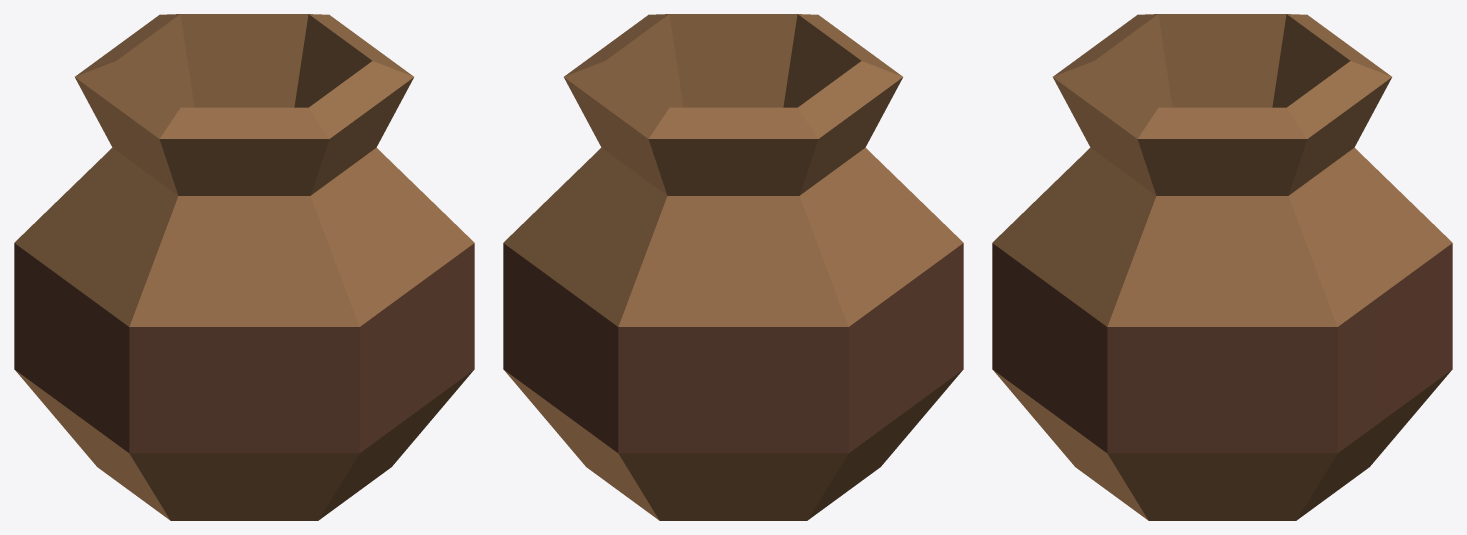
File: Pot_Small.fbx
3 views of the same model, side by side, from view 1: azimuth 30°, elevation 25°; view 2: azimuth 150°, elevation 25°; view 3: azimuth 270°, elevation 25° (orthographic).
Visible parts, largest first — view 1: Pot_Small; view 2: Pot_Small; view 3: Pot_Small.
Part boxes in pixels (x1,y1,x2,y2): Pot_Small: [14, 14, 474, 520]; Pot_Small: [503, 14, 963, 520]; Pot_Small: [992, 14, 1452, 520].
Size of the model in its own units: 8.18 by 9.2 by 9.45.
